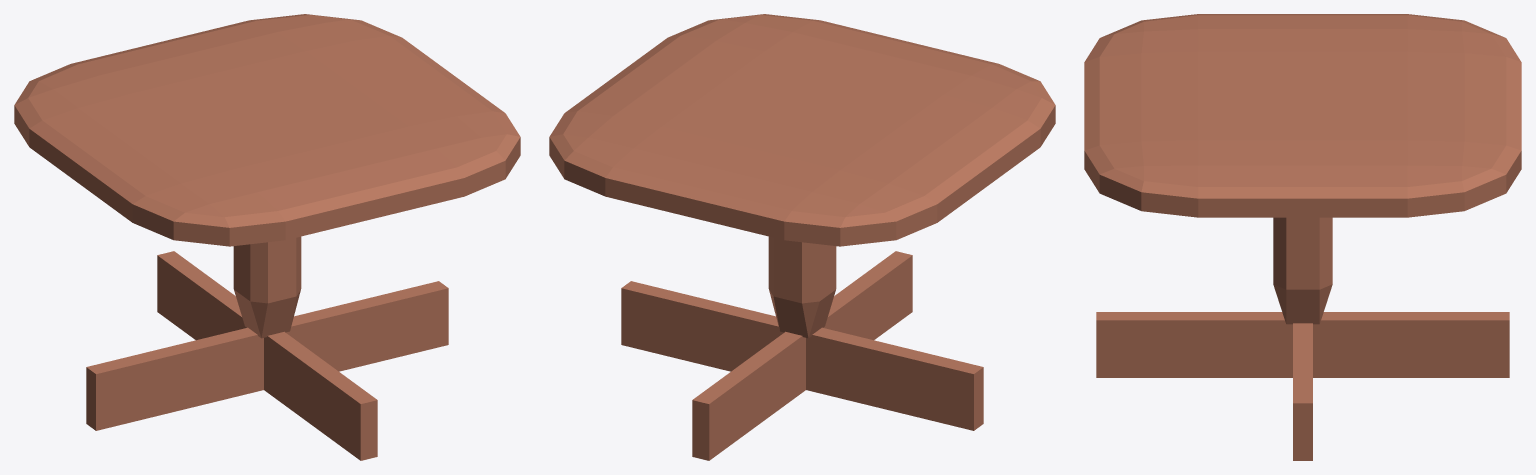
Rendered from round_table.glb.
The picture shows the model from 3 angles, left to right: view 1: azimuth 30°, elevation 25°; view 2: azimuth 150°, elevation 25°; view 3: azimuth 270°, elevation 25°; orthographic projection.
Parts seen in each view (by area): view 1: Round Table; view 2: Round Table; view 3: Round Table.
Part boxes in pixels (bbox=[...]): Round Table: bbox=[14, 14, 520, 460]; Round Table: bbox=[549, 14, 1055, 460]; Round Table: bbox=[1084, 14, 1521, 460].
Bounding box in the file's own units: 2.2 × 1.54 × 2.2.
